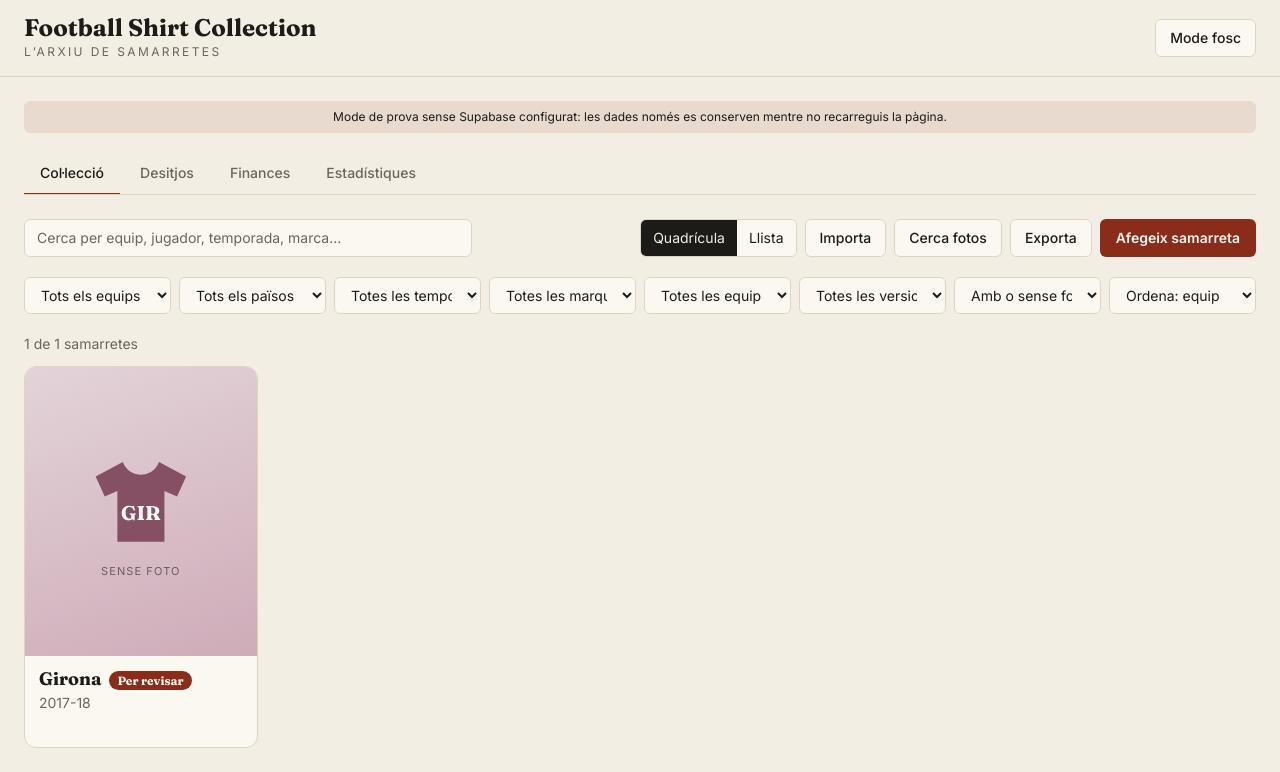
Fotos › mostra les candidates, la font i la llicència, i les confirma manualment
Expected: the text "Per revisar" is shown, [109, 672, 192, 690]
Click the button "Girona": (141, 557) [24, 366, 258, 748]
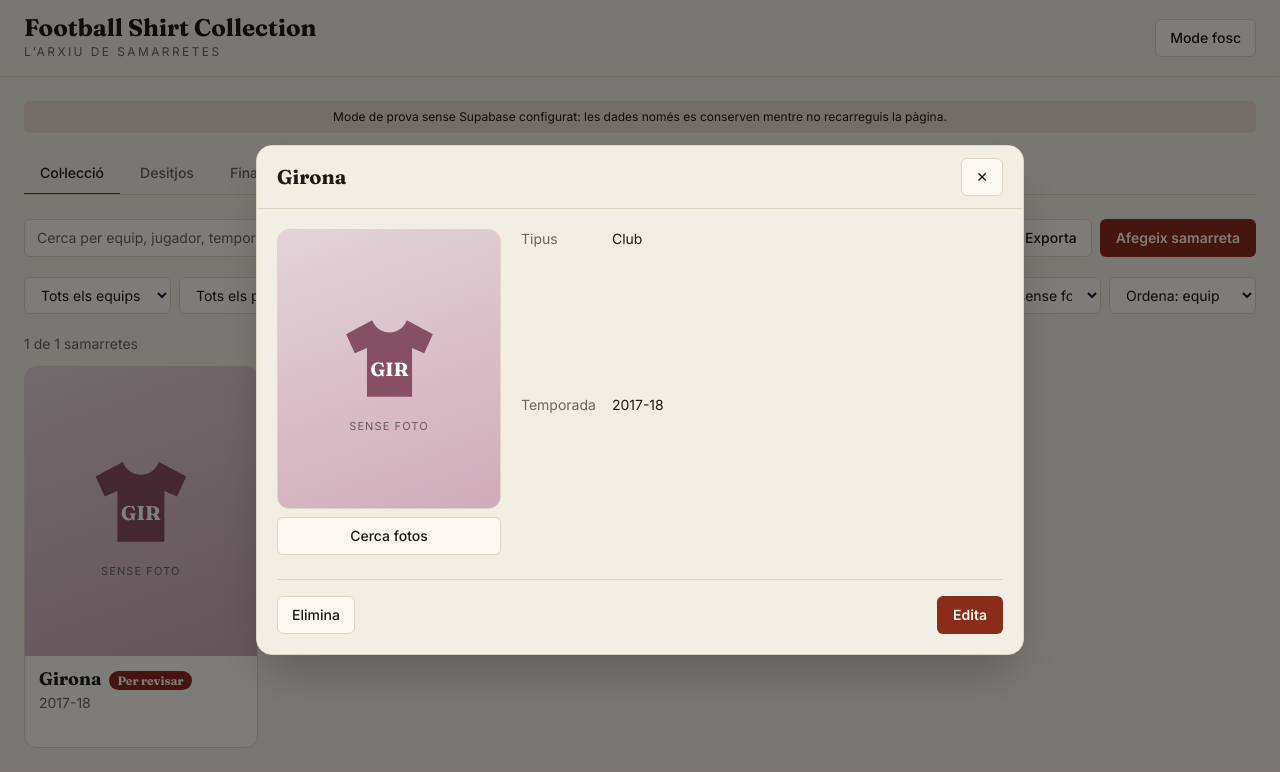
Click the button "Cerca fotos": (389, 536) [277, 517, 501, 555]
(page scrolled)
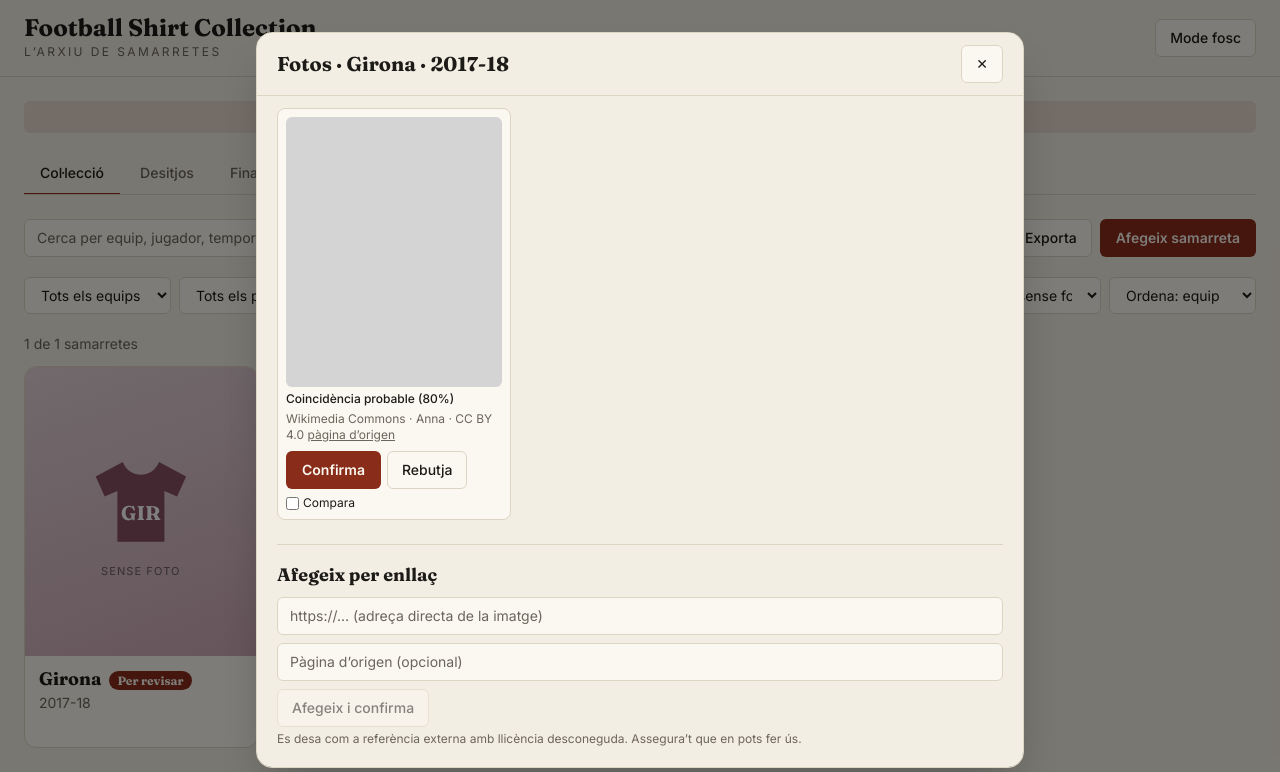
Expected: the text "Wikimedia Commons · Anna · CC BY 4.0 pàgina d’origen" is shown, [286, 411, 502, 443]
Click the button "Confirma": (333, 470) [286, 451, 381, 489]
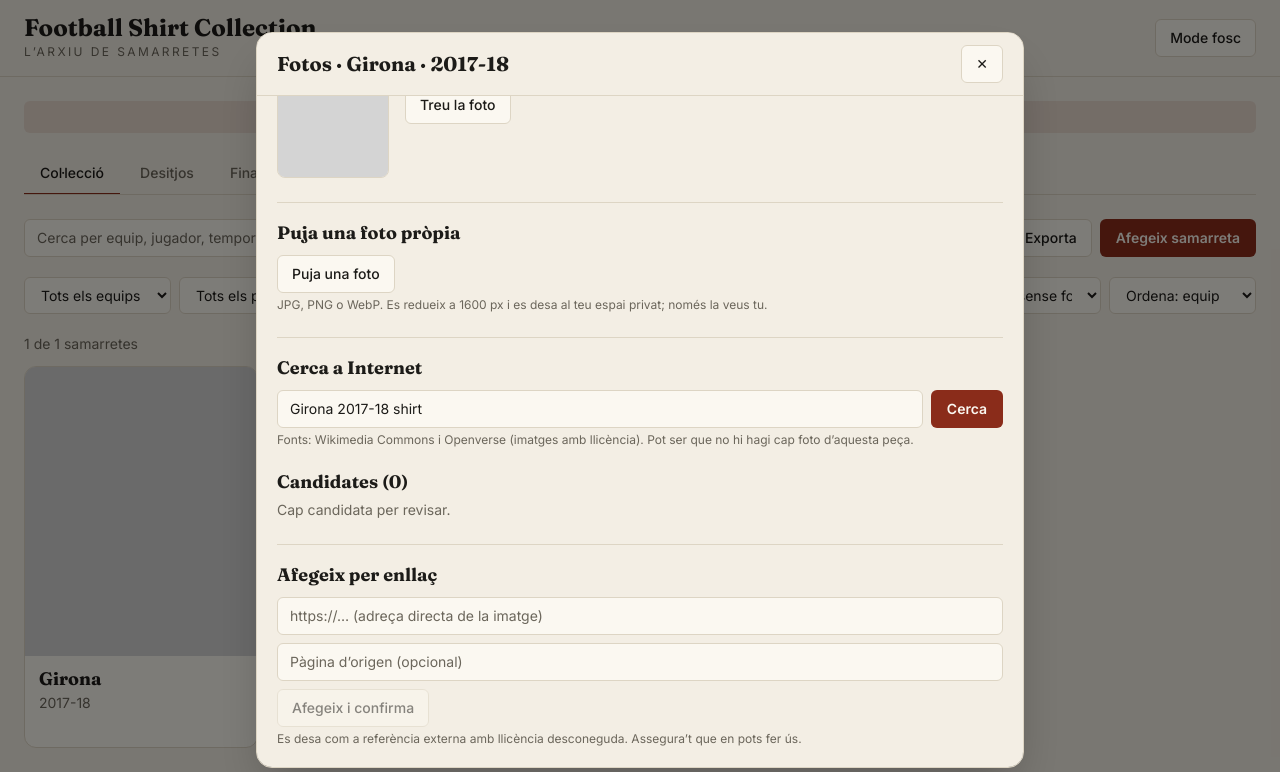
Expected: the button "Treu la foto" is shown, [405, 86, 511, 124]
